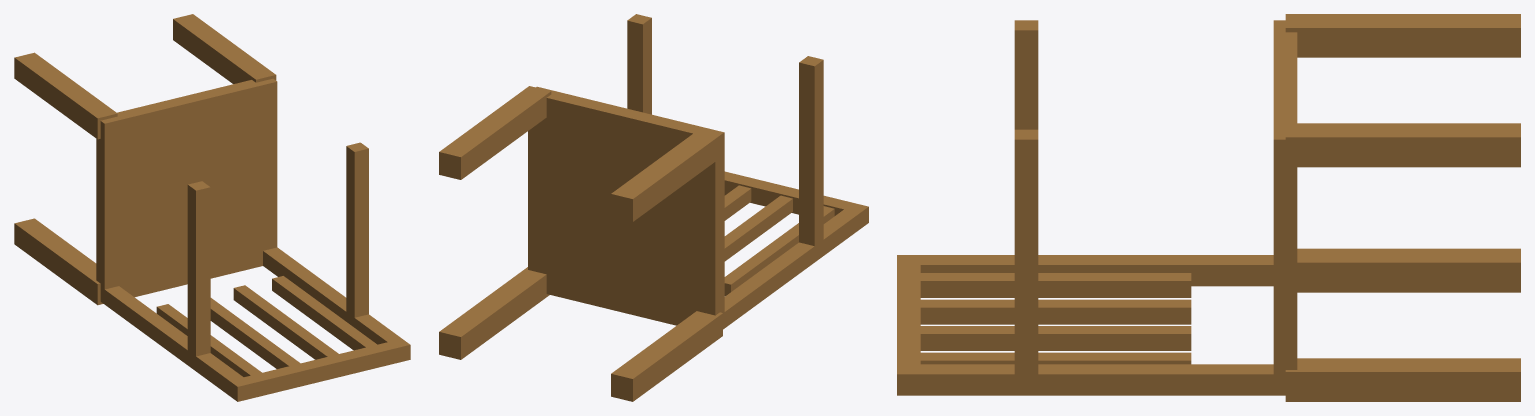
The model's file is wooden_chair_model.glb.
3 views of the same model, side by side, from view 1: azimuth 30°, elevation 25°; view 2: azimuth 150°, elevation 25°; view 3: azimuth 270°, elevation 25° (orthographic). The views are drawn at different scales.
Visible parts, largest first — view 1: world; view 2: world; view 3: world.
Boxes of the visible parts, bbox=[...] form: world: bbox=[14, 14, 410, 401]; world: bbox=[439, 14, 868, 401]; world: bbox=[897, 14, 1520, 401].
Size of the model in its own units: 0.62 by 0.62 by 1.33.
